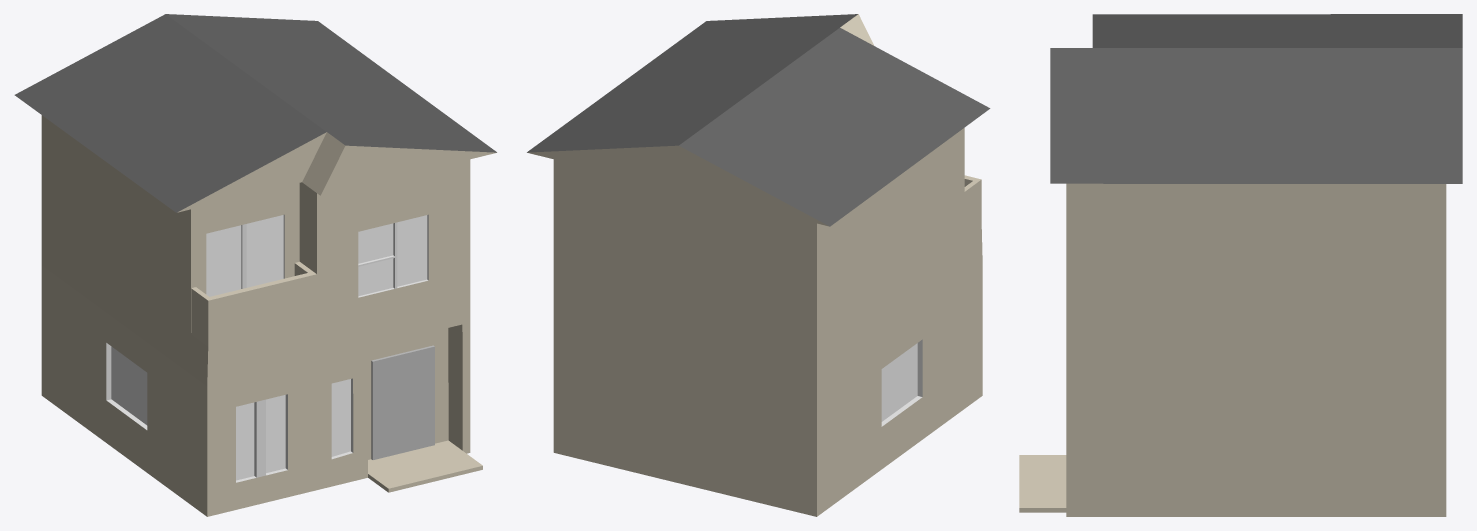
The model's file is house5.fbx.
3 views of the same model, side by side, from view 1: azimuth 30°, elevation 25°; view 2: azimuth 150°, elevation 25°; view 3: azimuth 270°, elevation 25° (orthographic). The views are drawn at different scales.
Visible parts, largest first — view 1: house5, pCube1; view 2: house5; view 3: house5.
Part boxes in pixels (x1,y1,x2,y2): house5: (14,14,496,516); pCube1: (371,345,434,459); house5: (527,14,990,516); house5: (1019,14,1462,516).
Bounding box in the file's own units: 6.35 × 6.88 × 7.
